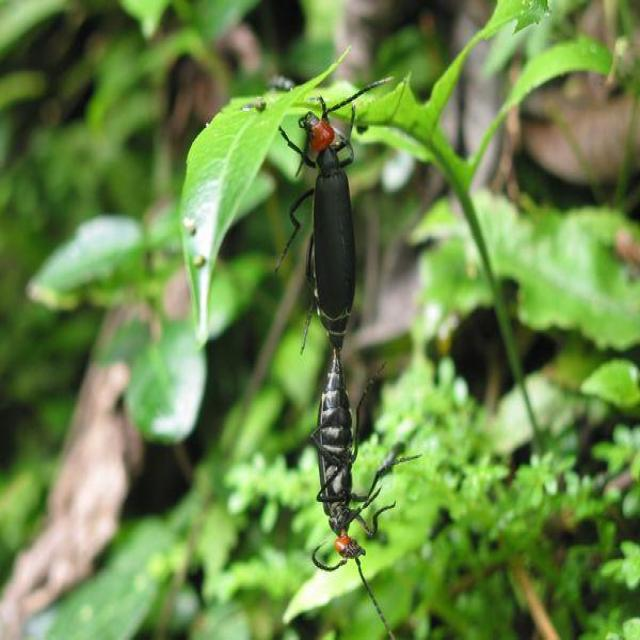BlisterBeetle-Adult-: (276, 71, 401, 360), (297, 346, 420, 618)
